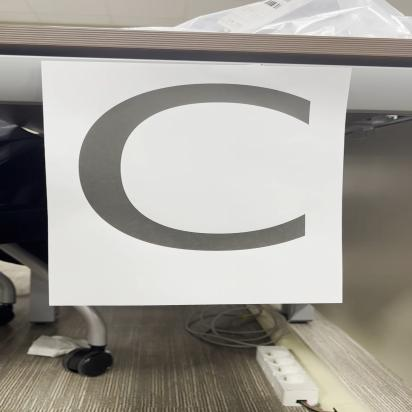seat: (43, 63, 344, 301)
